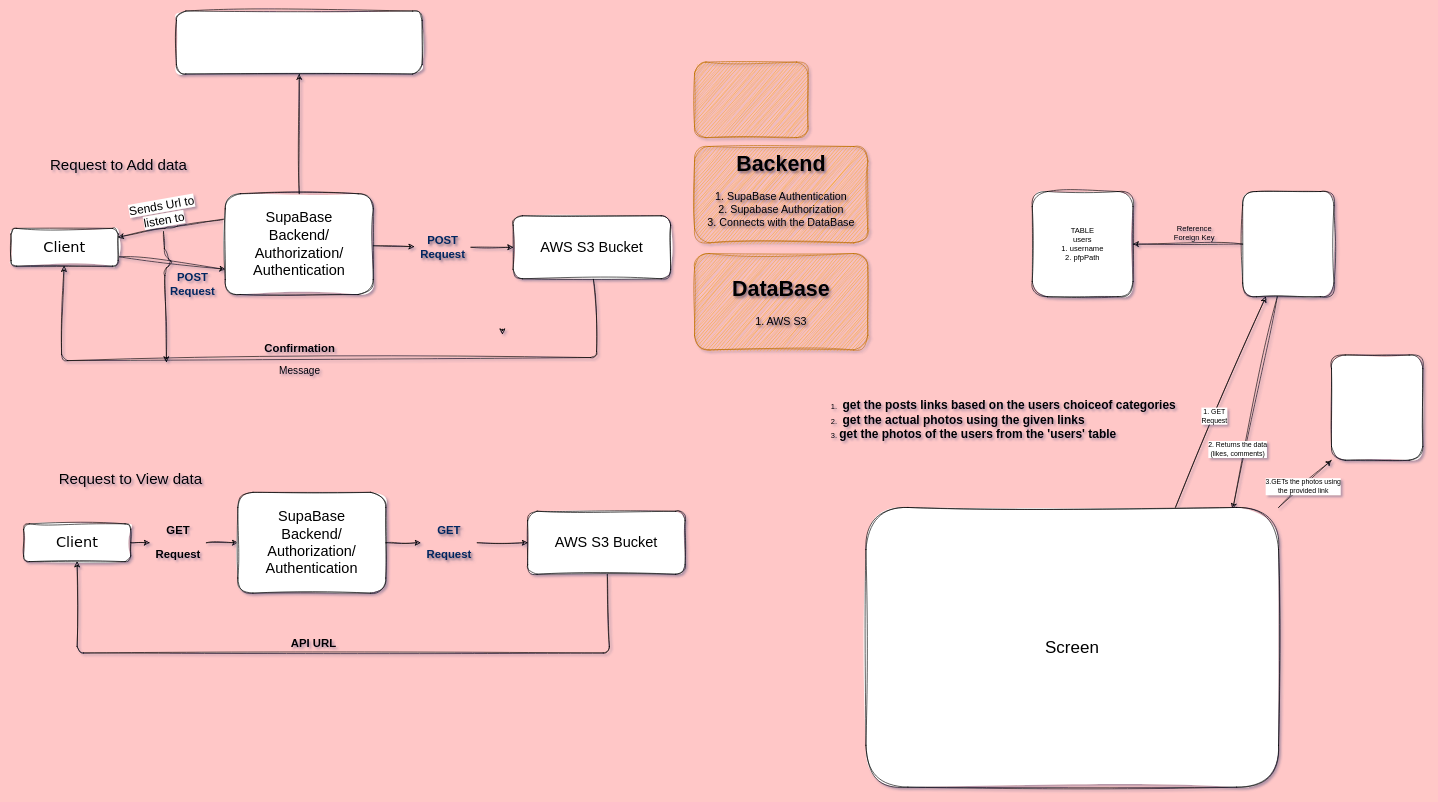
Some shapes in this 1438 by 802 pixel diagram are drawn without their labels. Each missing label, with the centre of its shape:
"Frontend 1. Next.Js 2. Motion Library" goes at point 751,99.
"Storage 1. tech {..Others} 2. pfp" goes at point 1377,407.
"Store MetaData to Supabase Postgresql" goes at point 299,42.
"TABLE user_uploads 1. username 2. ImagePath 3. Others" goes at point 1288,244.
